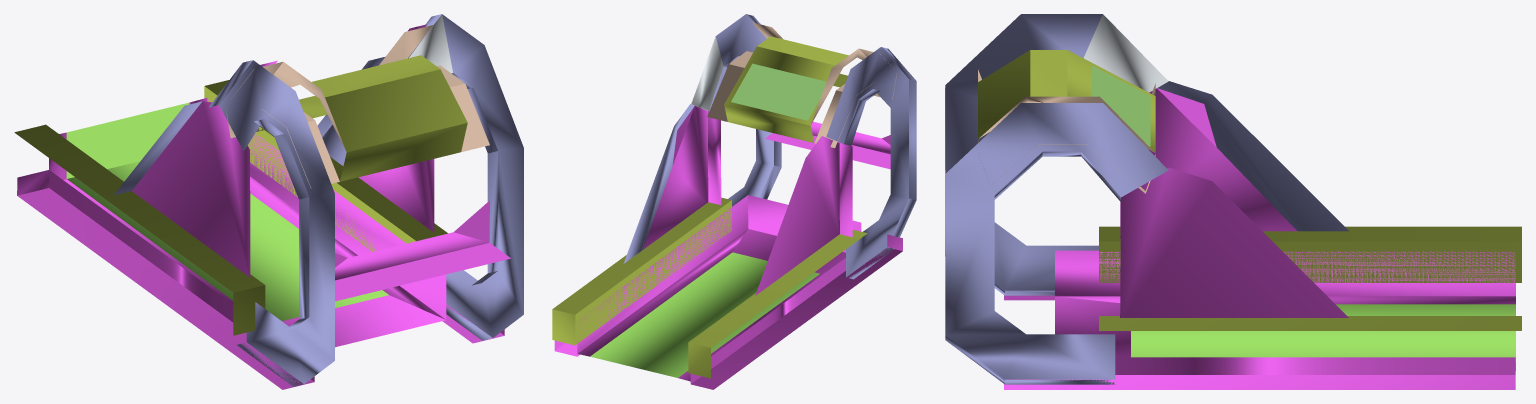
Rendered from machine_treadmill_1_a.glb.
3 views of the same model, side by side, from view 1: azimuth 30°, elevation 25°; view 2: azimuth 150°, elevation 25°; view 3: azimuth 270°, elevation 25° (orthographic). The views are drawn at different scales.
Size of the model in its own units: 1.32 by 1.63 by 3.07.
